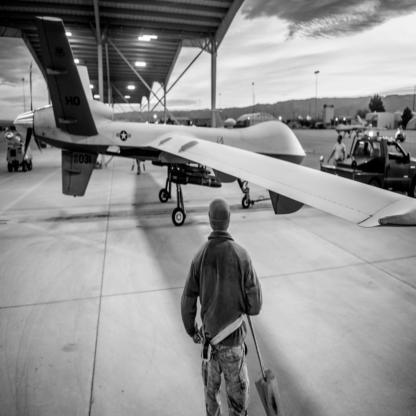MQ9: (15, 17, 416, 229), (328, 115, 390, 140)
